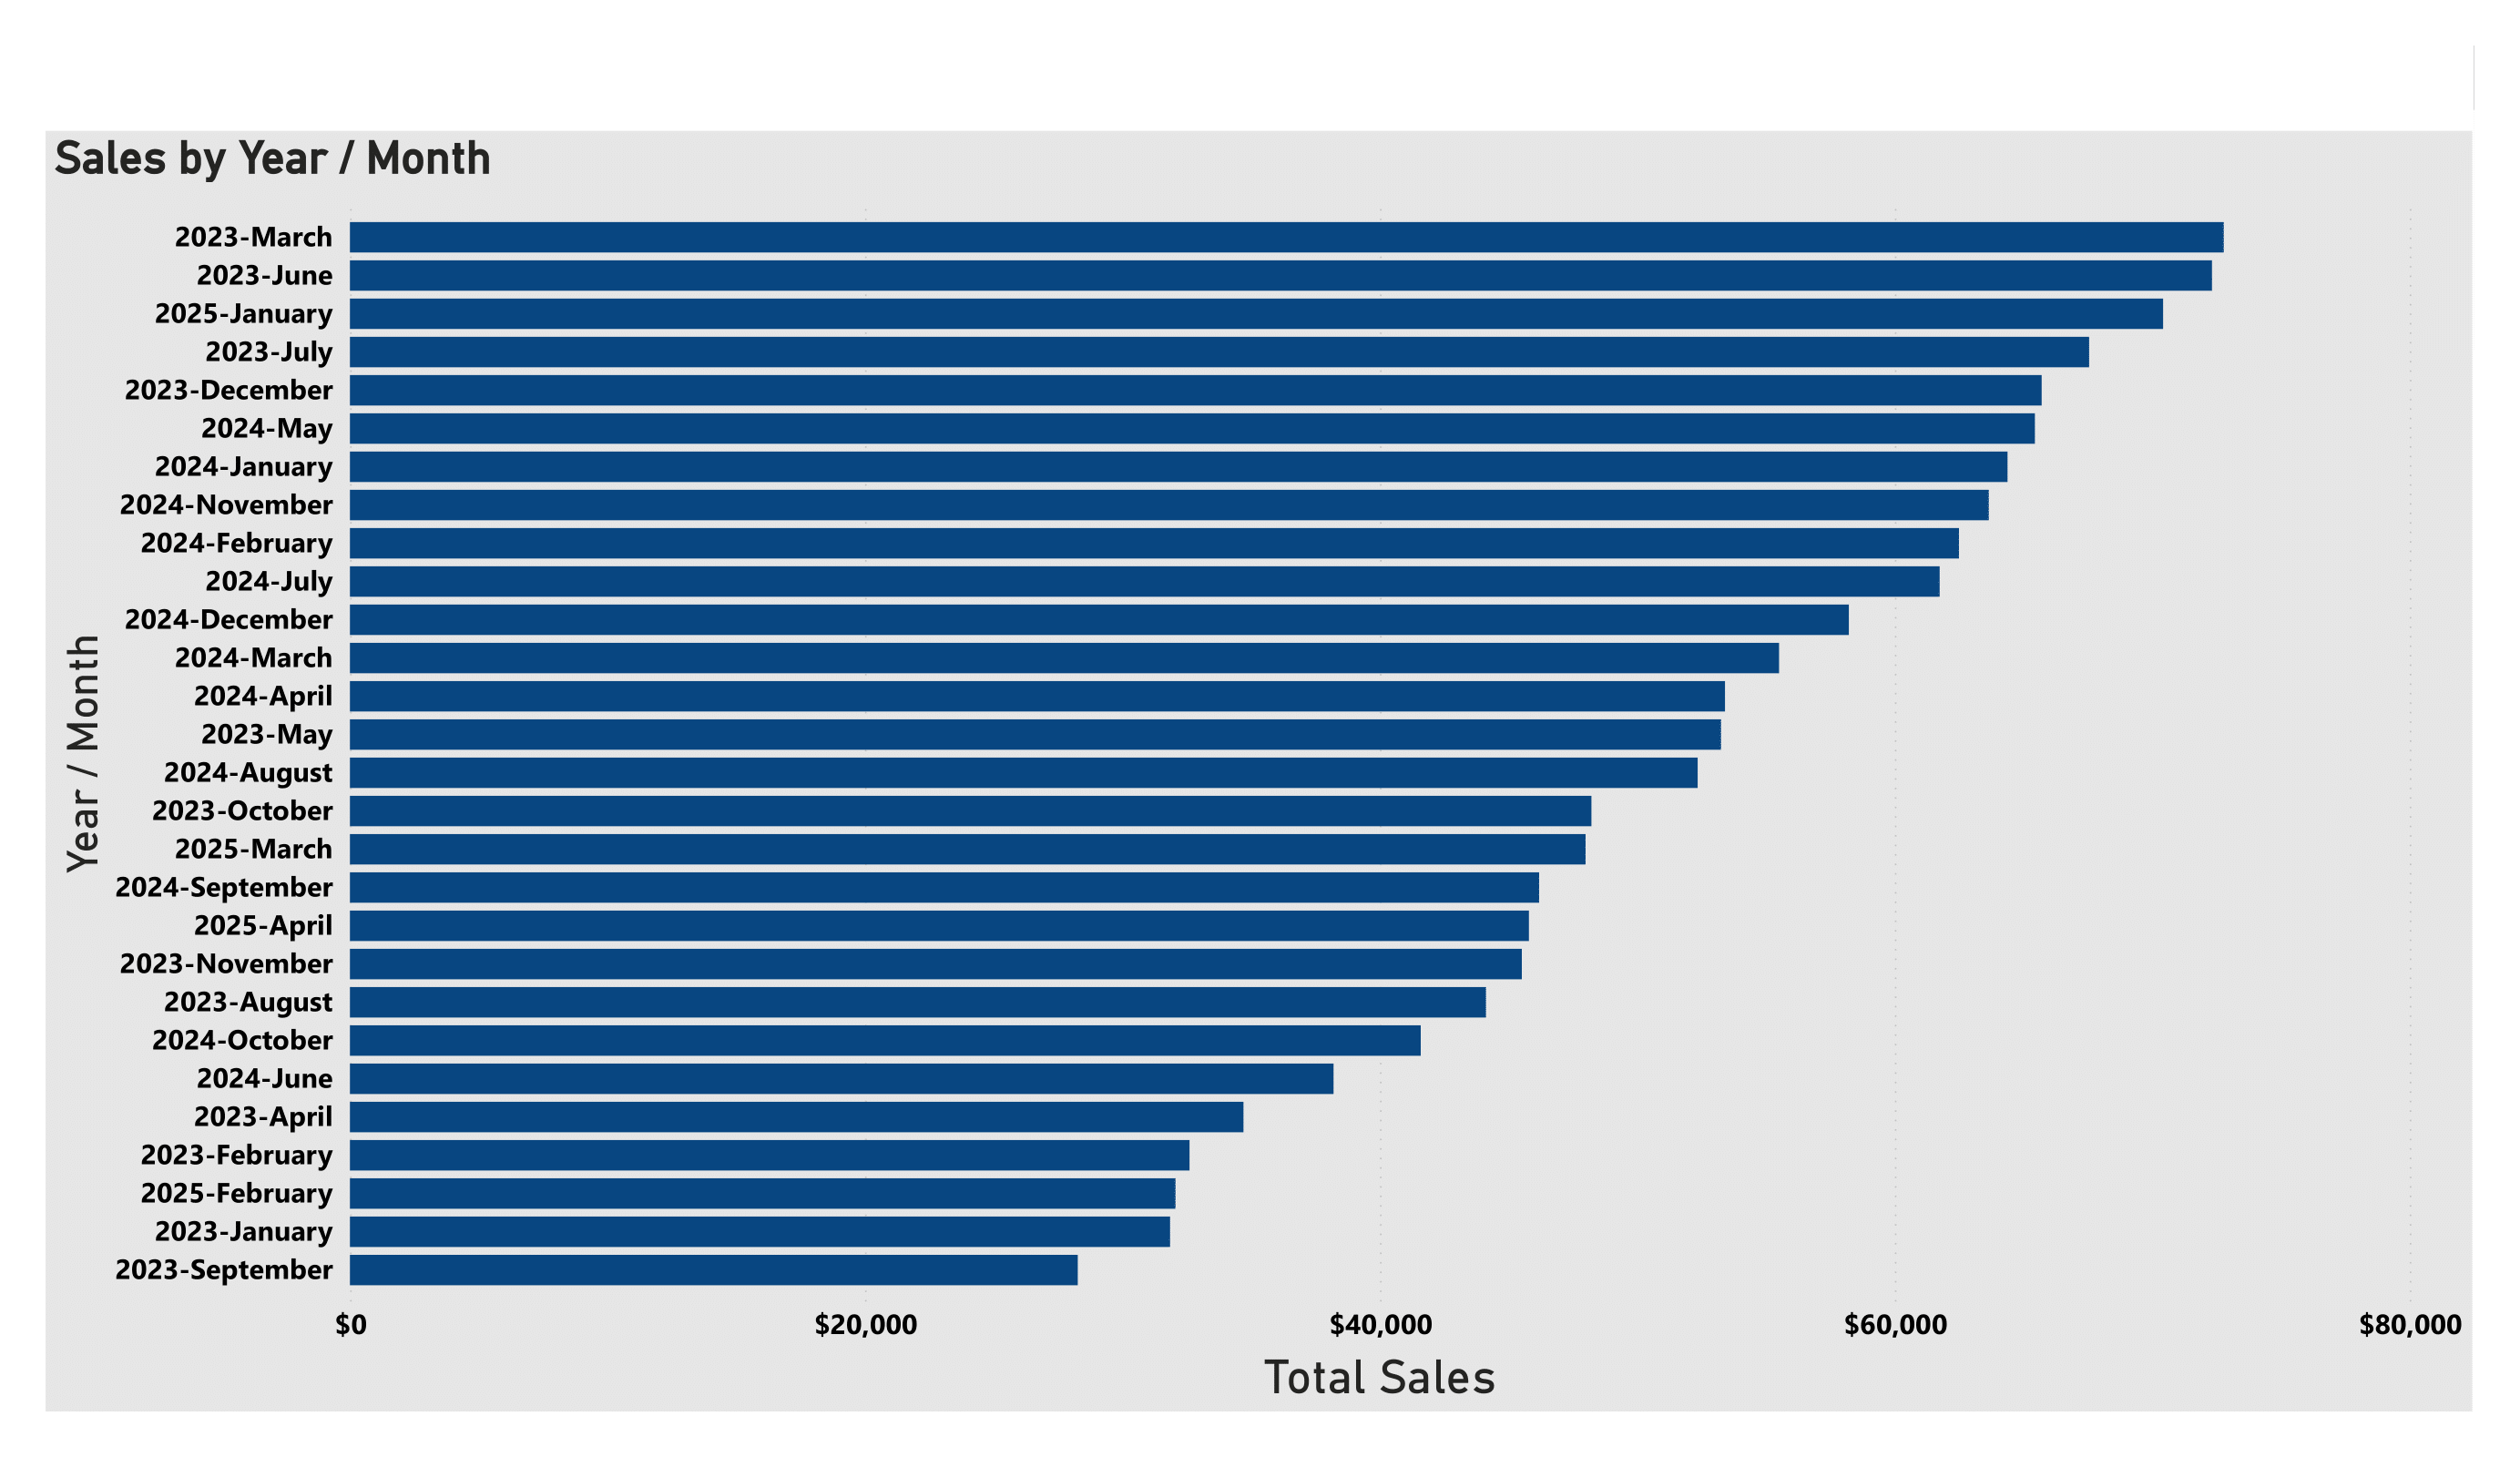

Layout of this report page (visuals, bound fields, positions):
{"tool":"powerbi","page":{"name":"Total Sales by Year/Month","canvas":[1280,720],"ordinal":6},"visuals":[{"type":"clusteredBarChart","title":"Sales by Year / Month ","fields":{"Category":["synthetic_ecommerce_data.Año/Mes"],"Y":["Sum(synthetic_ecommerce_data.Ventas Totales)"]},"box":[0,44.8,1279.4,675.9],"z":0}]}

Visuals, with their boxes on the page's 1280x720 design canvas (x1, y1, x2, y2). These are canvas units, not pixel positions in the 2520x1457 screenshot, which may show the page scaled, cropped or inside an application window:
"Sales by Year / Month " clusteredBarChart: 0 45 1279 721
